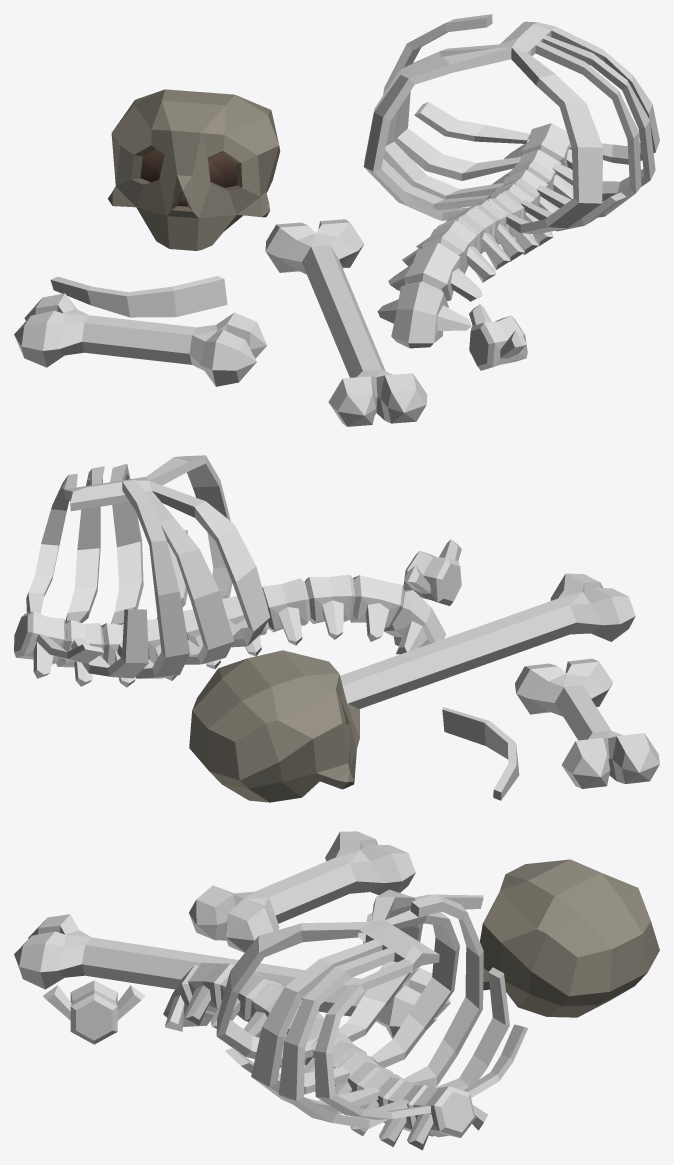
File: pileobones.fbx
3 views of the same model, one above another, from view 1: azimuth 30°, elevation 25°; view 2: azimuth 150°, elevation 25°; view 3: azimuth 270°, elevation 25° (orthographic). The views are drawn at different scales.
Visible parts, largest first — view 1: Cylinder.001, Cube.002, Cylinder, Cylinder.003, Cylinder.002, Cylinder.004; view 2: Cylinder.001, Cube.002, Cylinder, Cylinder.003, Cylinder.004, Cylinder.002; view 3: Cylinder.001, Cube.002, Cylinder, Cylinder.003, Cylinder.004, Cylinder.002.
Boxes of the visible parts, box(x1,y1,x2,y2) form: Cylinder.001: box(363, 14, 659, 348); Cube.002: box(108, 89, 280, 250); Cylinder: box(265, 219, 427, 426); Cylinder.003: box(14, 293, 267, 386); Cylinder.002: box(50, 276, 227, 317); Cylinder.004: box(469, 304, 527, 370); Cylinder.001: box(14, 455, 446, 687); Cube.002: box(189, 650, 359, 802); Cylinder: box(340, 573, 635, 709); Cylinder.003: box(515, 658, 659, 788); Cylinder.004: box(403, 539, 461, 605); Cylinder.002: box(442, 707, 519, 800); Cylinder.001: box(163, 889, 527, 1150); Cube.002: box(480, 859, 659, 1017); Cylinder: box(14, 914, 450, 1038); Cylinder.003: box(189, 831, 415, 952); Cylinder.004: box(43, 980, 145, 1044); Cylinder.002: box(363, 894, 483, 943).
Size of the model in its own units: 388 by 123 by 336.
